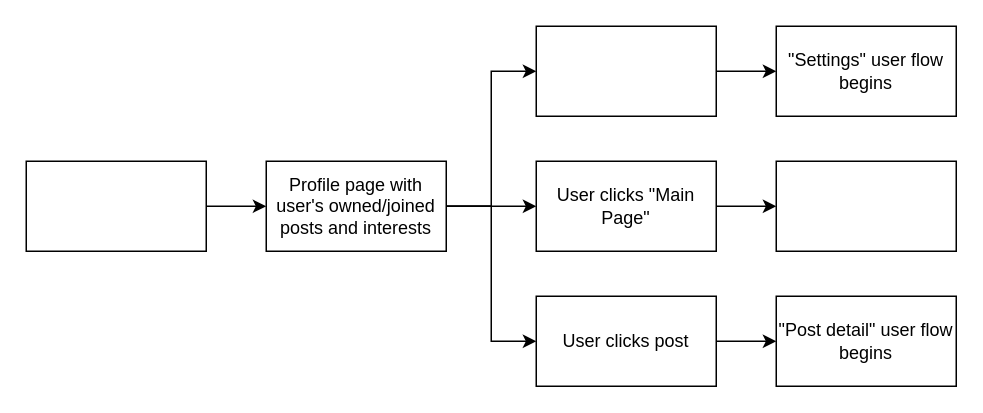
This 983x413 diagram has some shape labels left out. The centre of each missing label's shape, as x and y in pixels:
"Main page" user flow begins: (865,205)
User clicks "User Settings": (625,70)
User presses "Profile" button/icon: (115,205)
